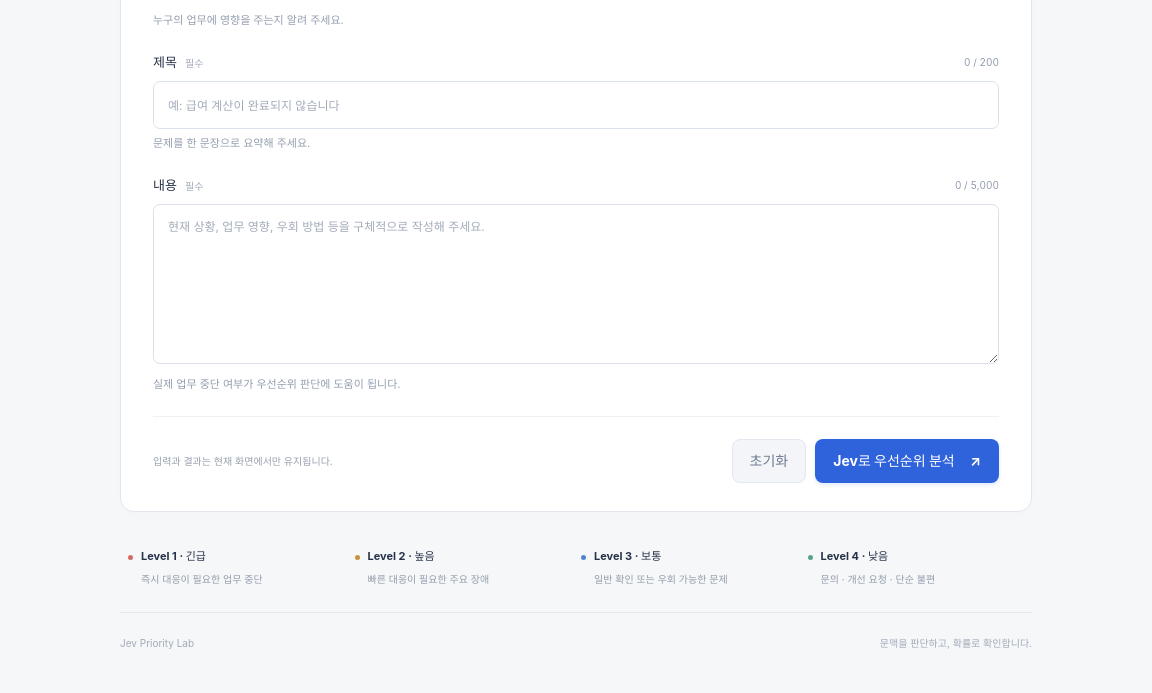
it: input validation › blocks empty submission without requesting analysis
(page scrolled)
Click the button "Jev로 우선순위 분석 ↗".
click(907, 461)  # box x1=815 y1=439 x2=999 y2=483
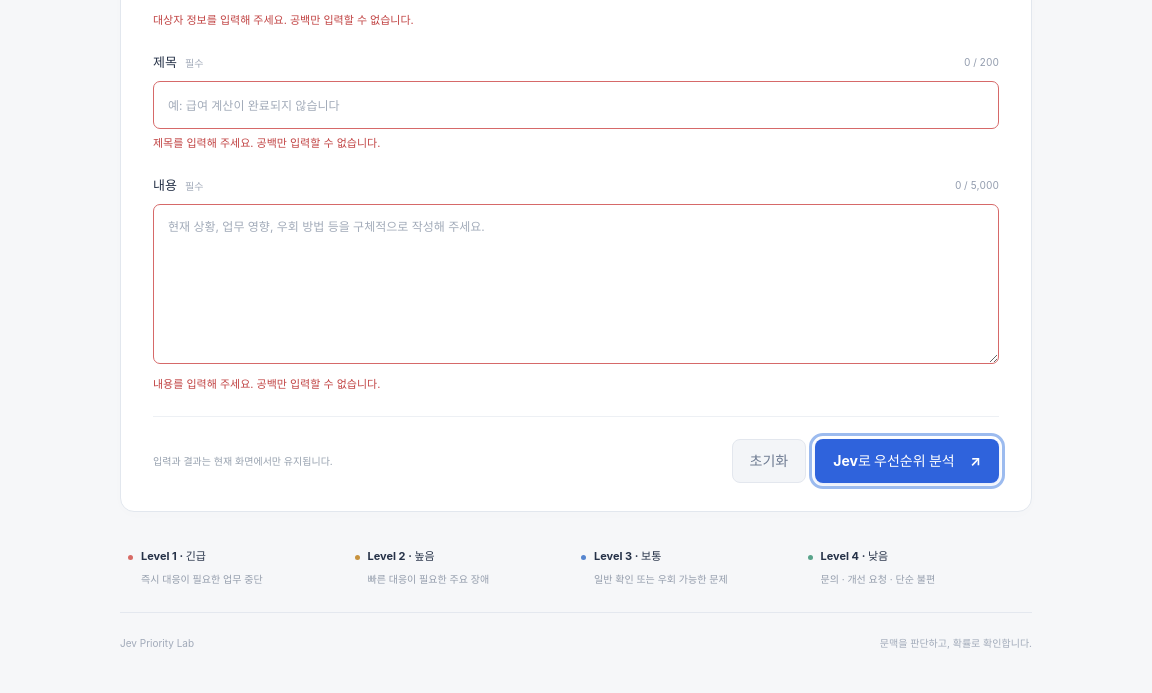
Now the number of messages is 3, box x1=153 y1=13 x2=414 y2=27; x1=153 y1=136 x2=380 y2=150; x1=153 y1=377 x2=380 y2=391
